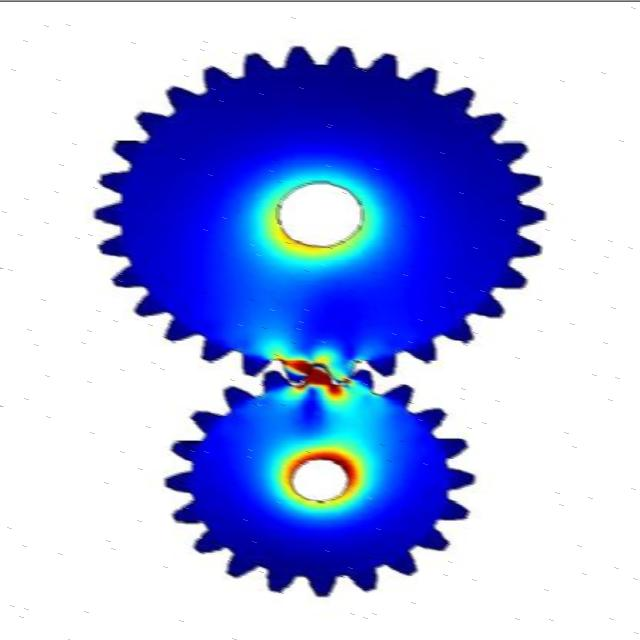Gear: (90, 38, 548, 384), (162, 364, 474, 596)
